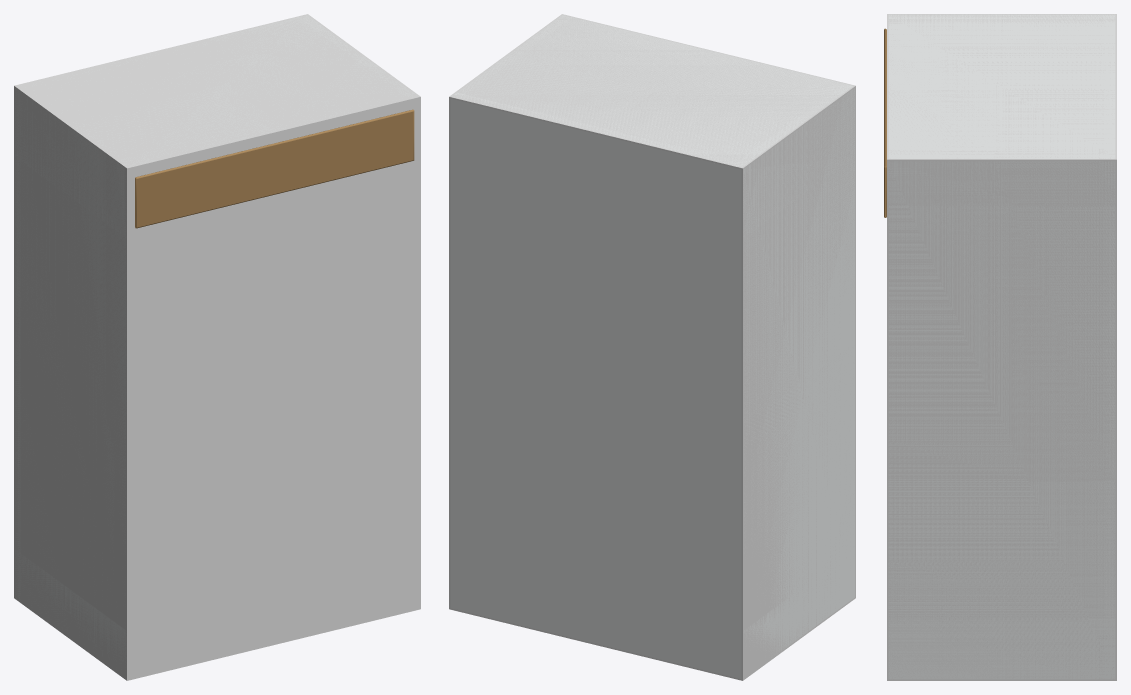
Rendered from sikhye_fridge.mobile.glb.
The picture shows the model from 3 angles, left to right: view 1: azimuth 30°, elevation 25°; view 2: azimuth 150°, elevation 25°; view 3: azimuth 270°, elevation 25°; orthographic projection.
Parts seen in each view (by area): view 1: COL_Fridge, SikhyeFridge; view 2: SikhyeFridge, COL_Fridge; view 3: SikhyeFridge, COL_Fridge.
Boxes of the visible parts, bbox=[...] form: COL_Fridge: bbox=[14, 14, 420, 680]; SikhyeFridge: bbox=[15, 16, 414, 669]; SikhyeFridge: bbox=[450, 15, 854, 678]; COL_Fridge: bbox=[449, 14, 855, 680]; SikhyeFridge: bbox=[884, 14, 1115, 679]; COL_Fridge: bbox=[887, 14, 1116, 680].
Bounding box in the file's own units: 1.2 × 2 × 0.8099.
